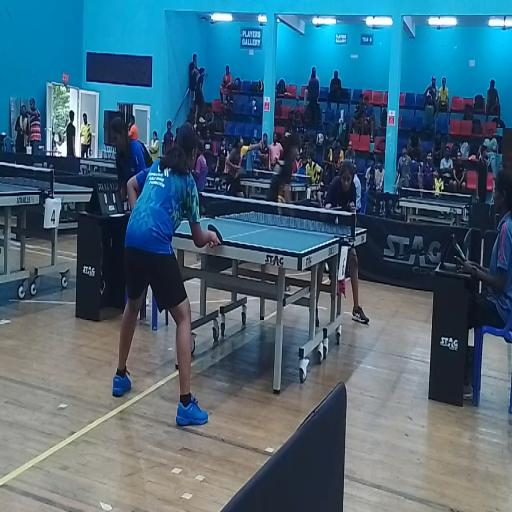ball: (334, 217, 340, 224)
